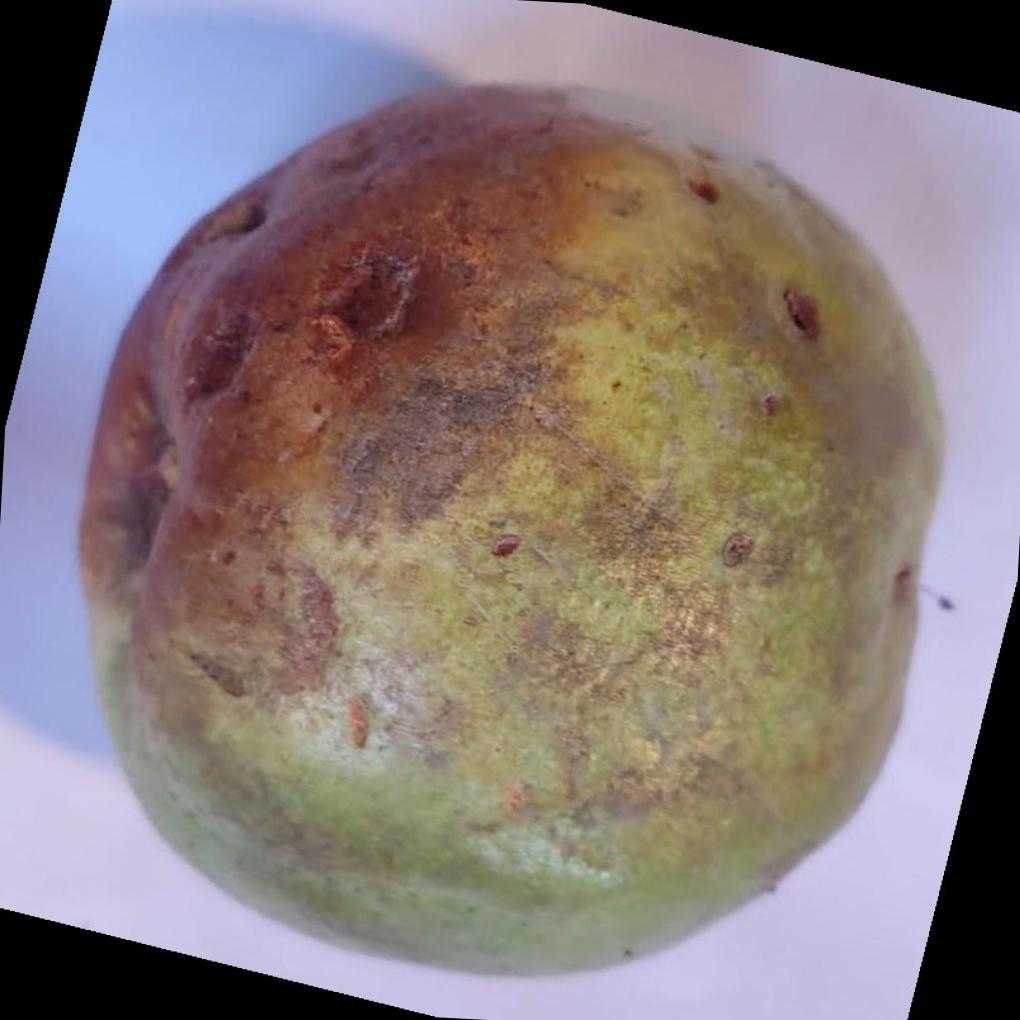FreshOrange: (71, 82, 944, 978)
